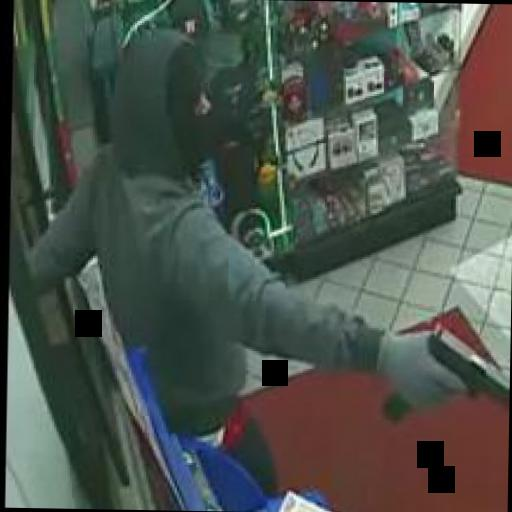Handgun: (374, 316, 508, 426)
